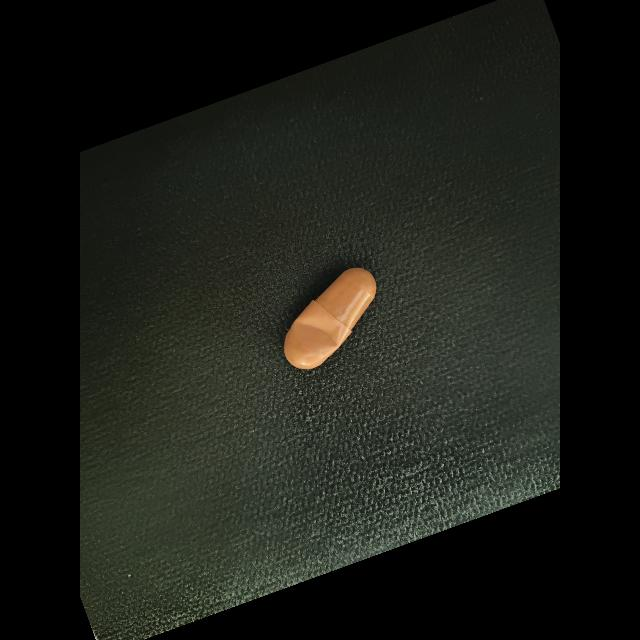Defective Capsule: (296, 316, 339, 350)
